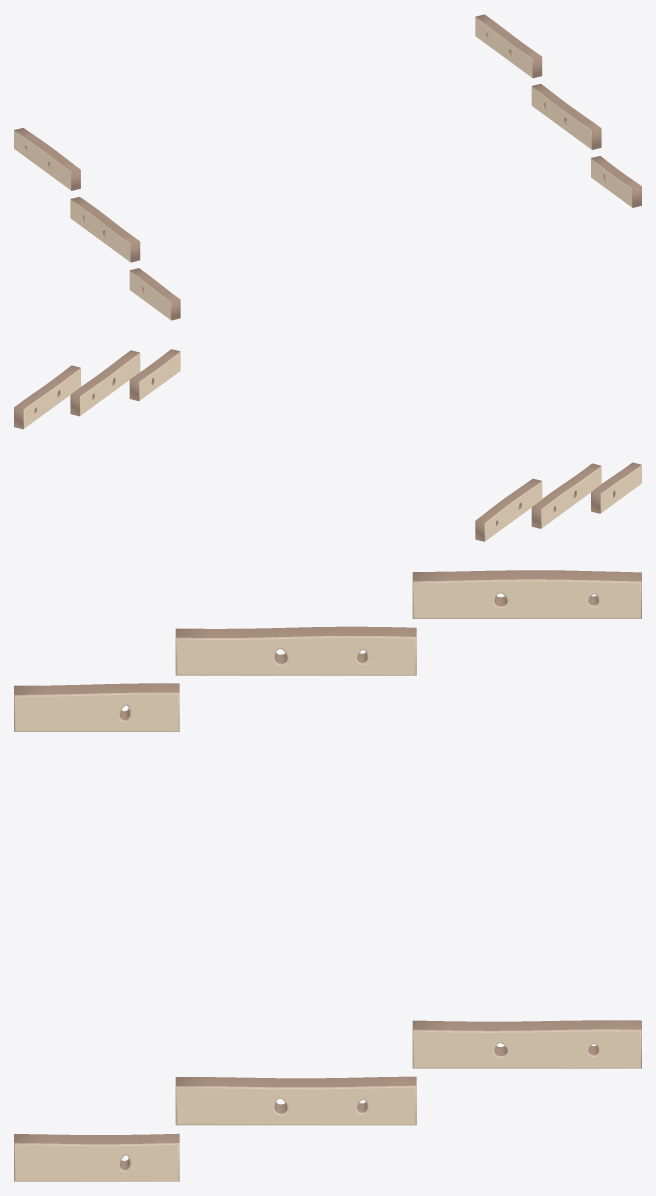
Rendered from side-parapet-grip-v3.glb.
3 renders of one model, top to bottom at view 1: azimuth 30°, elevation 25°; view 2: azimuth 150°, elevation 25°; view 3: azimuth 270°, elevation 25°, orthographic. The views are drawn at different scales.
Visible parts, largest first — view 1: TG03_SIDE_GRIP; view 2: TG03_SIDE_GRIP; view 3: TG03_SIDE_GRIP.
Part boxes in pixels (x1,y1,x2,y2): TG03_SIDE_GRIP: (14, 14, 641, 320); TG03_SIDE_GRIP: (14, 349, 641, 541); TG03_SIDE_GRIP: (14, 570, 641, 1181).
Bounding box in the file's own units: 18.83 × 2.93 × 10.87.
